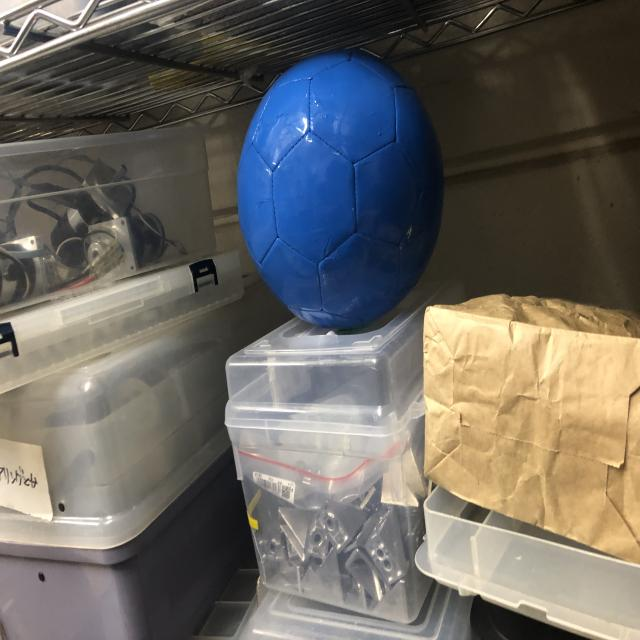blue_ball: (245, 58, 439, 329)
